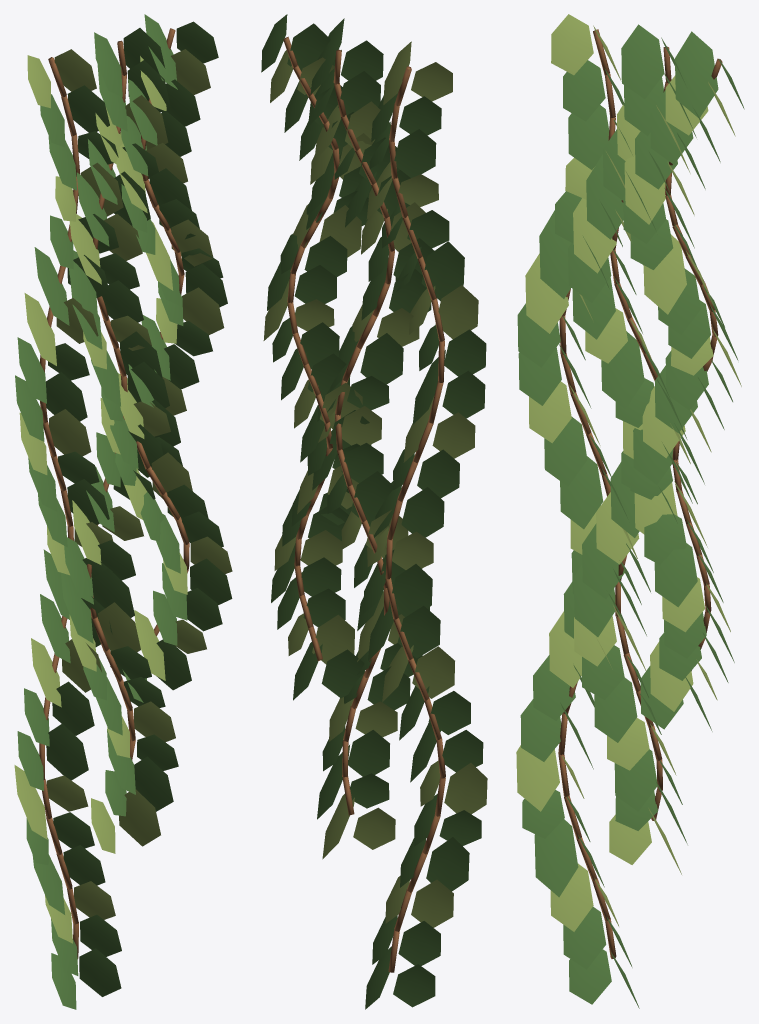
The model's file is vine_hanging.glb.
The picture shows the model from 3 angles, left to right: view 1: azimuth 30°, elevation 25°; view 2: azimuth 150°, elevation 25°; view 3: azimuth 330°, elevation 25°; orthographic projection.
Parts seen in each view (by area): view 1: vine_hanging; view 2: vine_hanging; view 3: vine_hanging.
Boxes of the visible parts, x1,y1,x2,y2 form: vine_hanging: [14, 14, 232, 1009]; vine_hanging: [261, 14, 487, 1009]; vine_hanging: [516, 14, 744, 1008].
Bounding box in the file's own units: 0.9676 × 4.19 × 0.2609.
Materials: 3 (1 with a texture image).
